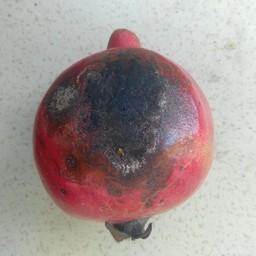Bad_pomegranate: (42, 19, 217, 243)
